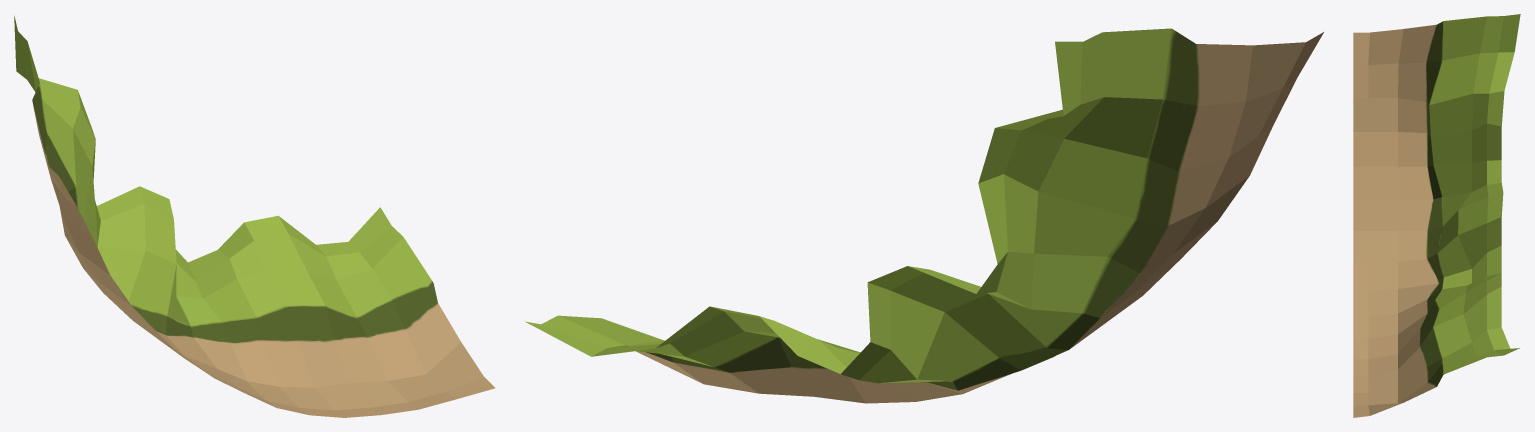
Rendered from planeUp.fbx.
3 renders of one model, left to right at view 1: azimuth 30°, elevation 25°; view 2: azimuth 150°, elevation 25°; view 3: azimuth 270°, elevation 25°, orthographic. The views are drawn at different scales.
Parts seen in each view (by area): view 1: pPlane19; view 2: pPlane19; view 3: pPlane19.
Boxes of the visible parts, bbox=[...] form: pPlane19: bbox=[14, 16, 495, 417]; pPlane19: bbox=[525, 28, 1323, 403]; pPlane19: bbox=[1353, 14, 1520, 417].
Bounding box in the file's own units: 29.47 × 24.61 × 13.49.
